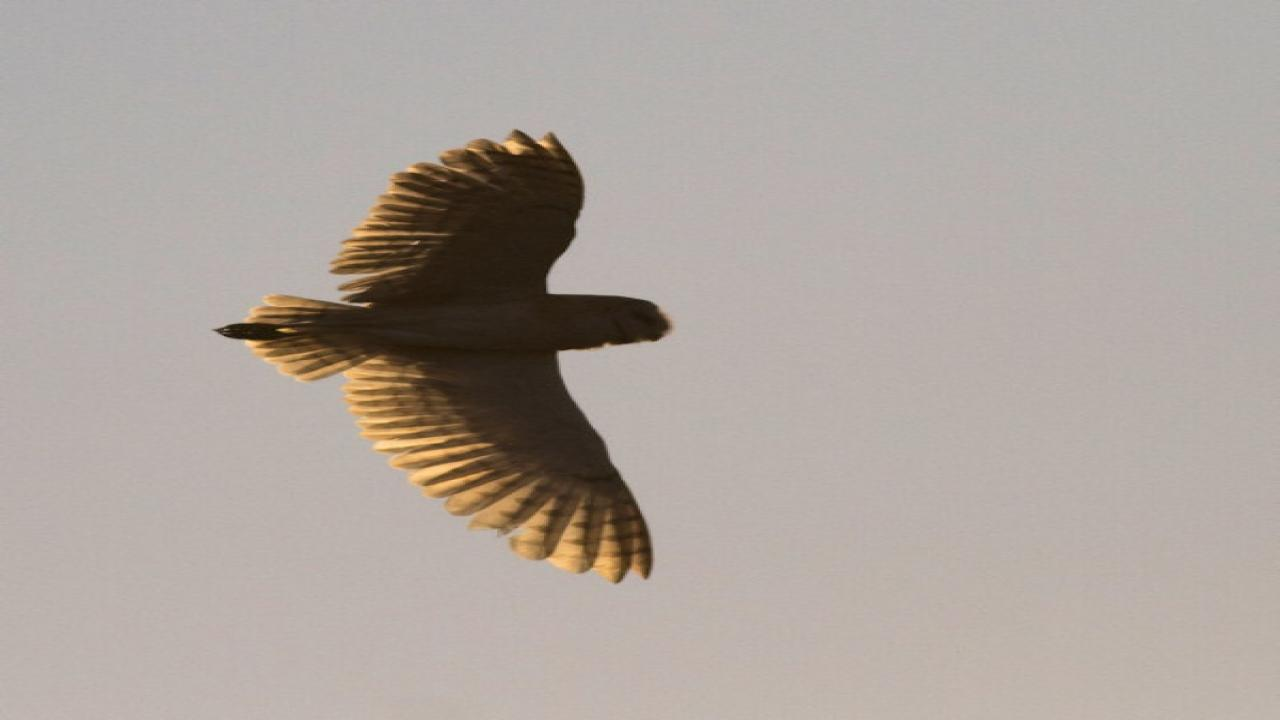Bird: (202, 122, 698, 593)
